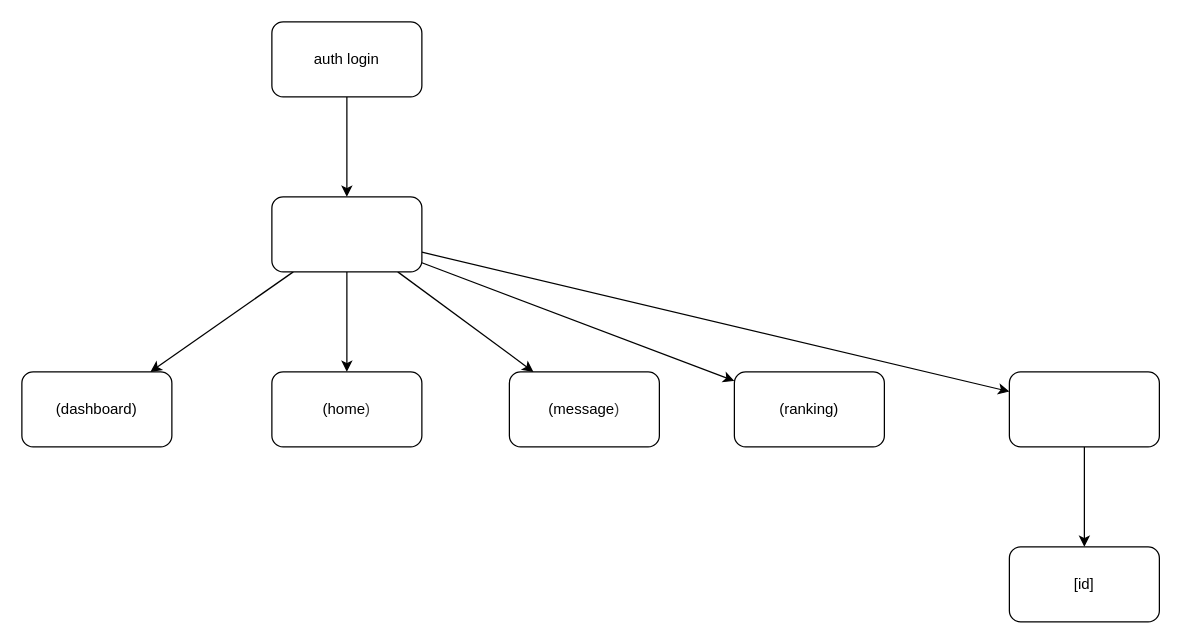
This 1181x644 diagram has some shape labels left out. The shapes that lost their labels are listed below. From the top down, each one's centre as x and y in pixels, then its label:
point (346, 234): (tabs)
point (1083, 409): (shops )
